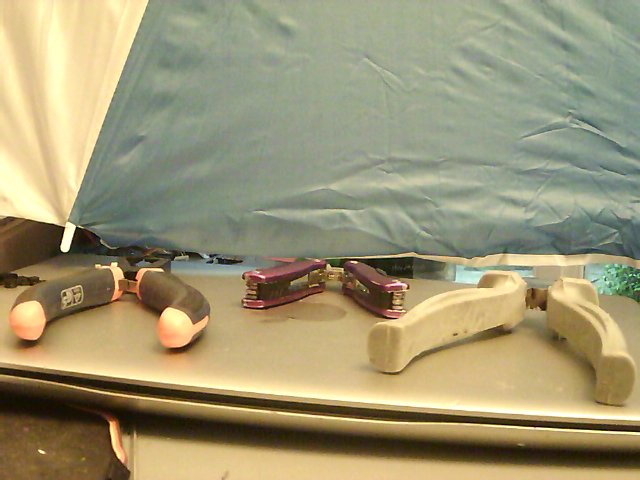pliers: (368, 253, 636, 408), (239, 253, 407, 316)
